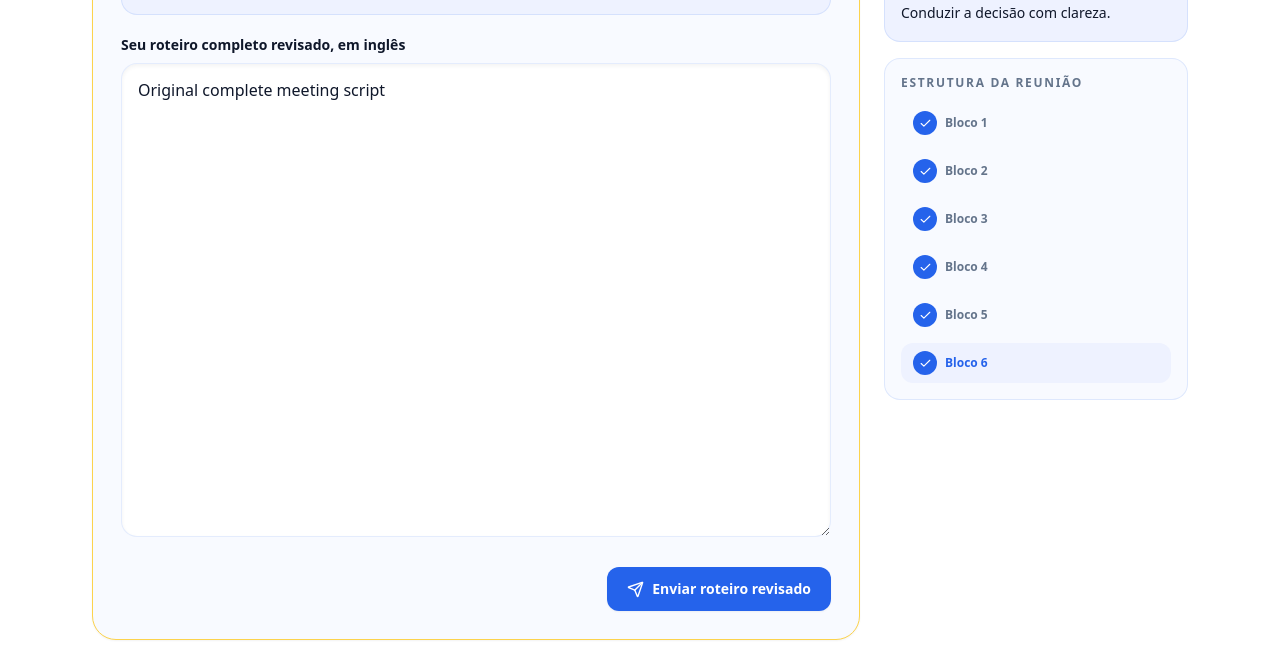
WolfieMeetingActivity construction retry › restores the final feedback and retries the same logical step without returning to a section
This screenshot has width=1280, height=647.
(page scrolled)
Replace the text in the text box labelled "Seu roteiro completo revisado, em inglês" with "Revised script with owner, deadline and next step.". click: point(476, 300)
box: [121,63,831,537]
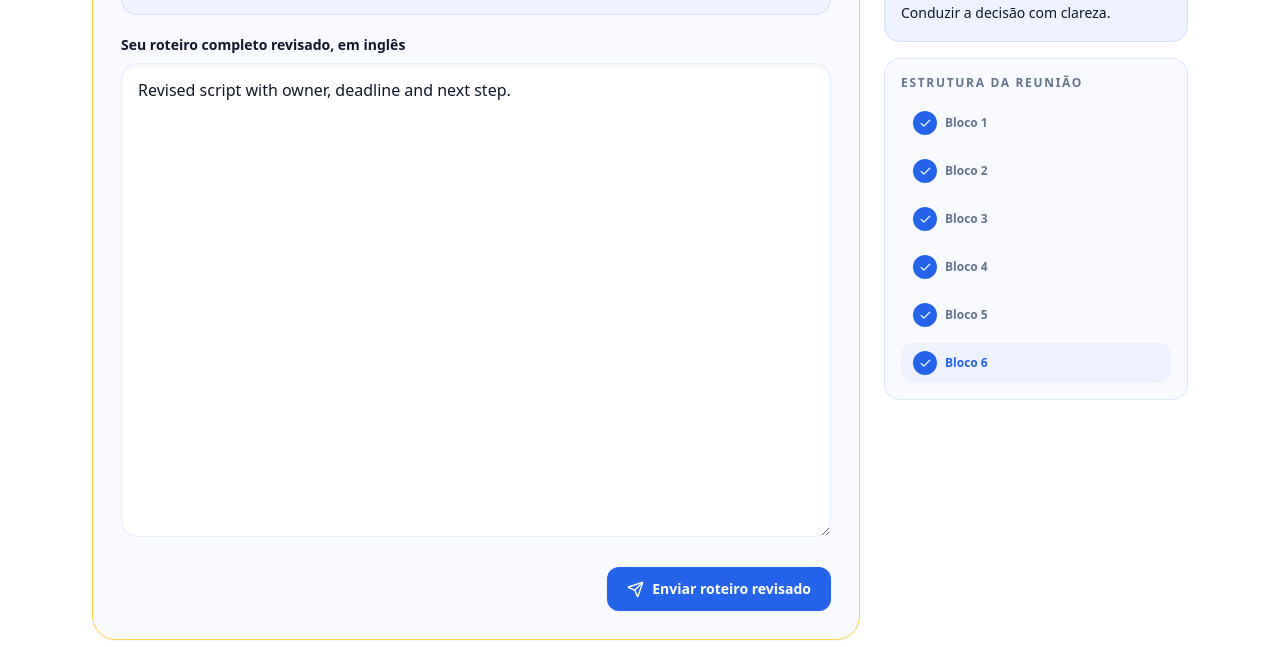
Click the button "Enviar roteiro revisado". click: point(719, 589)
box: [607,567,831,611]
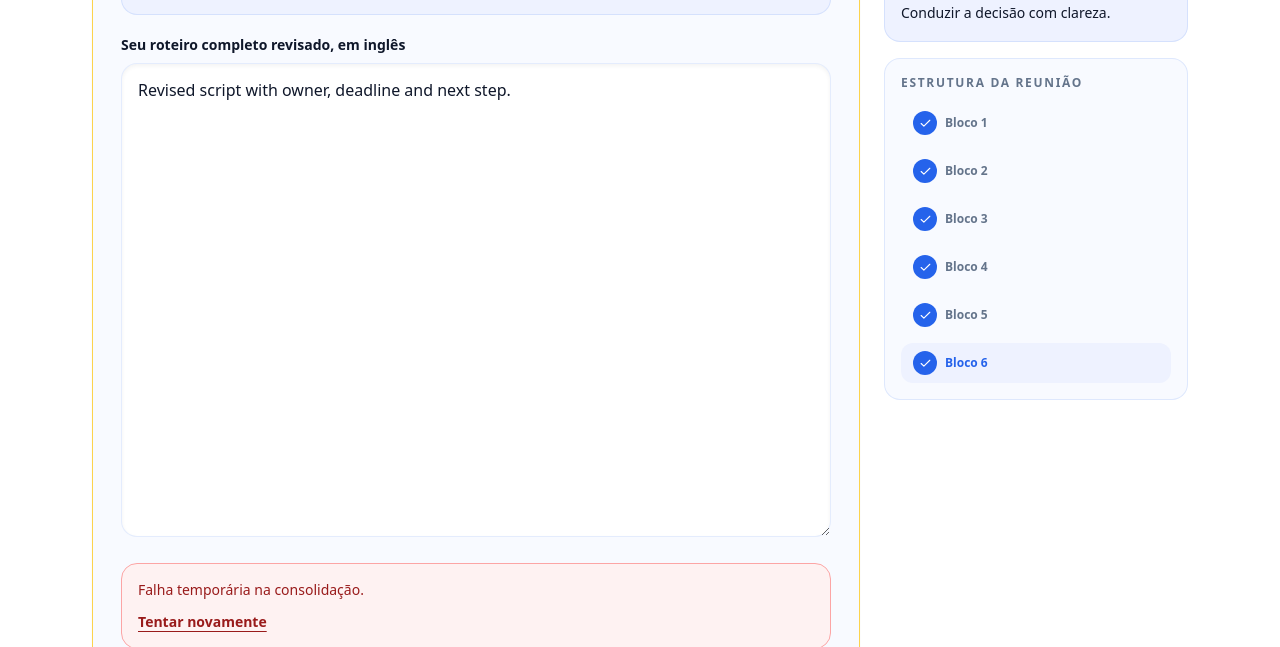
Expected: the text "Falha temporária na consolidação." is shown, [138,580,364,599]
Click the button "Tentar novamente". click: point(202, 622)
box: [138,612,267,632]
(page scrolled)
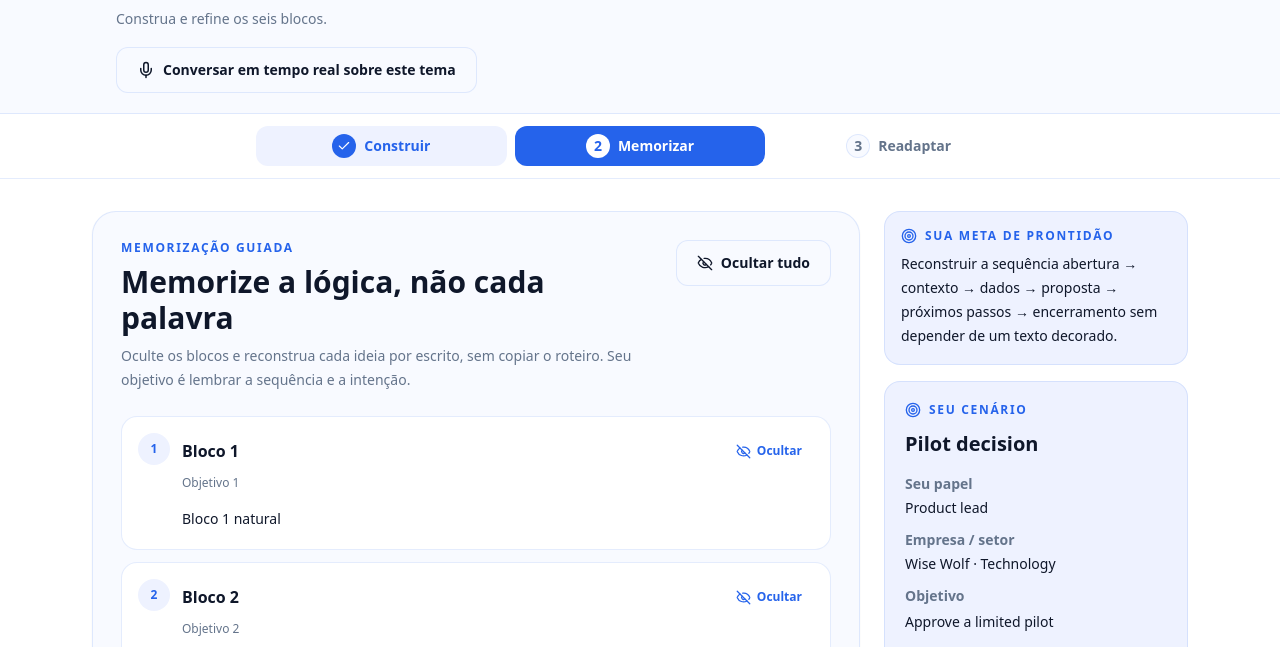
Expected: the heading "Memorize a lógica, não cada palavra" is shown, [121,261,544,338]
